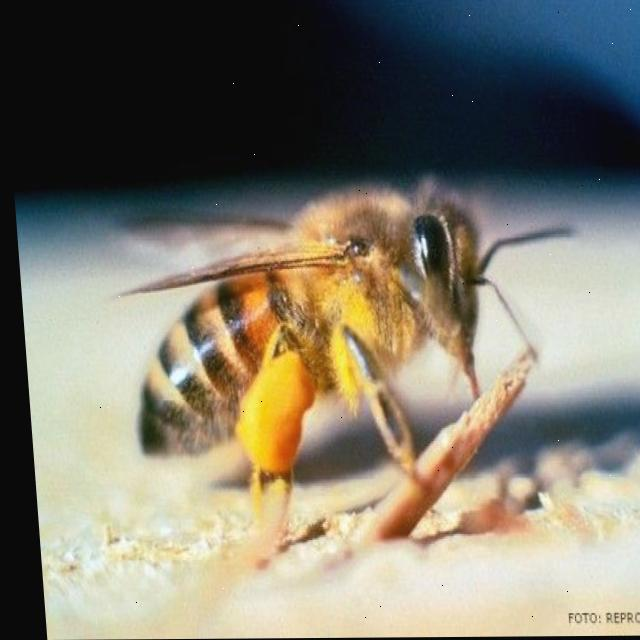Apis-mellifera-scutellata: (107, 146, 566, 518)
